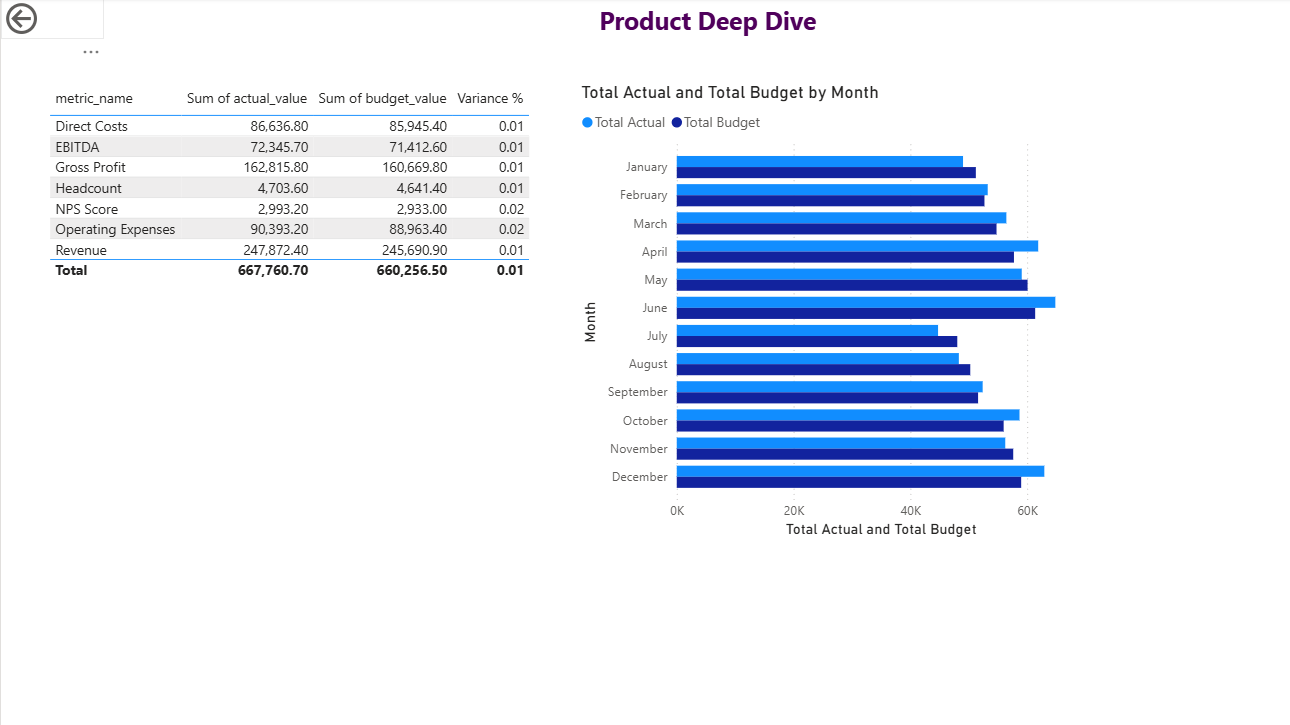

The page's visual inventory and layout, read from the dashboard file:
{"tool":"powerbi","page":{"name":"Product Deep Dive","canvas":[1280,720],"ordinal":3},"visuals":[{"type":"textbox","box":[576.8,0,249,51.6],"z":0},{"type":"actionButton","box":[0,0,100,40],"z":1},{"type":"tableEx","fields":{"Values":["dim_metric.metric_name","Sum(fact_fpa.actual_value)","Sum(fact_fpa.budget_value)","Measures (2).Variance %"]},"box":[41.8,81.7,494.1,267.5],"z":2},{"type":"clusteredBarChart","fields":{"Category":["dim_month.month_short.Variation.Date Hierarchy.Month","dim_month.month_short.Variation.Date Hierarchy.Day"],"Y":["Measures (2).Total Actual","Measures (2).Total Budget"]},"box":[559.3,81.7,510.6,448.4],"z":3}]}

Visuals, with their boxes on the page's 1280x720 design canvas (x1, y1, x2, y2). These are canvas units, not pixel positions in the 1290x725 screenshot, which may show the page scaled, cropped or inside an application window:
textbox: 577 0 826 52
actionButton: 0 0 100 40
tableEx - dim_metric.metric_name x Sum(fact_fpa.actual_value): 42 82 536 349
clusteredBarChart - dim_month.month_short.Variation.Date Hierarchy.Month x dim_month.month_short.Variation.Date Hierarchy.Day: 559 82 1070 530
